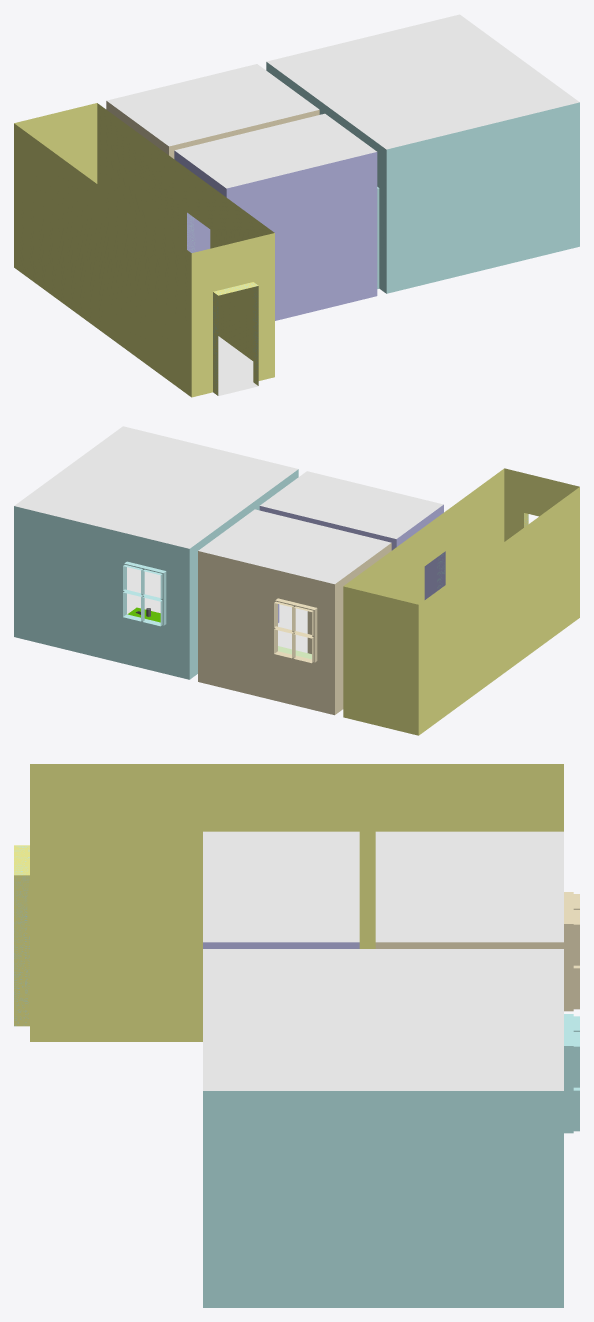
Rendered from first_apartment_bad.dae.
The picture shows the model from 3 angles, top to bottom: view 1: azimuth 30°, elevation 25°; view 2: azimuth 150°, elevation 25°; view 3: azimuth 270°, elevation 25°; orthographic projection. The views are drawn at different scales.
Visible parts, largest first — view 1: group_11 (×2), group_14 (×3), group_1 (×2), group_13 (×2); view 2: group_11 (×3), group_14, group_13 (×2), group_1 (×3), group_25, group_17; view 3: group_11 (×2), group_14 (×2), group_13 (×2), group_1 (×2), group_17, group_25.
Part boxes in pixels (x1,y1,x2,y2): group_11 (×2): [266, 14, 579, 293]; group_14 (×3): [14, 103, 274, 397]; group_1 (×2): [174, 113, 377, 320]; group_13 (×2): [106, 64, 319, 158]; group_11 (×3): [14, 426, 298, 679]; group_14: [343, 468, 579, 735]; group_13 (×2): [198, 509, 391, 715]; group_1 (×3): [259, 471, 443, 652]; group_25: [275, 598, 317, 662]; group_17: [124, 561, 166, 625]; group_11 (×2): [203, 949, 563, 1307]; group_14 (×2): [14, 764, 563, 1041]; group_13 (×2): [375, 831, 563, 948]; group_1 (×2): [203, 831, 359, 948]; group_17: [564, 1014, 573, 1133]; group_25: [564, 892, 573, 1011].
Size of the model in its own units: 382 by 279 by 118.
